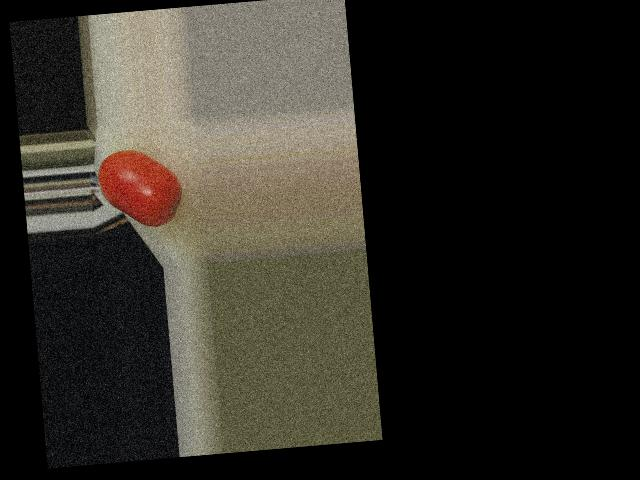tomato: (95, 145, 184, 231)
